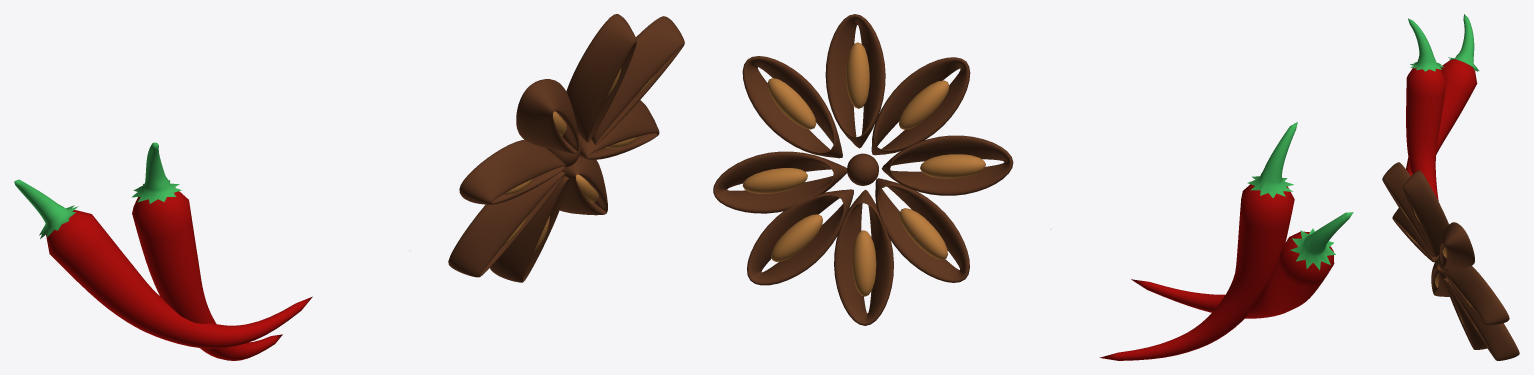
Rendered from ctjybj.glb.
3 renders of one model, left to right at view 1: azimuth 30°, elevation 25°; view 2: azimuth 150°, elevation 25°; view 3: azimuth 270°, elevation 25°, orthographic. The views are drawn at different scales.
Visible parts, largest first — view 1: 贝塞尔曲线.001, 贝塞尔曲线.003, 平面.002, 平面.005, 平面.004, 平面.001, 平面.003, 平面.006, 平面, 平面.007, 贝塞尔曲线.004, 贝塞尔曲线.002; view 2: 贝塞尔曲线.003, 平面.001, 贝塞尔曲线.001, 平面.002, 平面, 平面.006, 平面.007, 平面.004, 平面.005, 平面.003, 贝塞尔曲线.002, 贝塞尔曲线.004 (+9 smaller); view 3: 贝塞尔曲线.003, 平面.002, 贝塞尔曲线.001, 平面, 平面.007, 平面.001, 平面.003, 贝塞尔曲线.004, 平面.006, 贝塞尔曲线.002, 平面.004, 平面.005.
Boxes of the visible parts, x1,y1,x2,y2 form: 贝塞尔曲线.001: (46,210,312,348); 贝塞尔曲线.003: (132,187,282,360); 平面.002: (566,14,636,142); 平面.005: (448,171,565,277); 平面.004: (459,139,566,204); 平面.001: (591,16,684,144); 平面.003: (516,79,578,153); 平面.006: (490,176,569,282); 平面: (578,100,659,159); 平面.007: (560,156,607,215); 贝塞尔曲线.004: (131,142,181,203); 贝塞尔曲线.002: (14,179,78,238); 贝塞尔曲线.003: (1099,184,1294,360); 平面.001: (742,56,842,158); 贝塞尔曲线.001: (1131,231,1334,318); 平面.002: (825,14,885,148); 平面: (713,151,846,213); 平面.006: (834,189,893,325); 平面.007: (747,189,853,285); 平面.004: (881,135,1013,195); 平面.005: (875,178,969,282); 平面.003: (871,57,970,155); 贝塞尔曲线.002: (1290,212,1353,269); 贝塞尔曲线.004: (1247,122,1297,198); 贝塞尔曲线.003: (1406,68,1446,200); 平面.002: (1403,170,1448,257); 贝塞尔曲线.001: (1406,59,1477,175); 平面: (1444,266,1509,325); 平面.007: (1447,282,1519,360); 平面.001: (1439,222,1474,269); 平面.003: (1382,162,1433,256); 贝塞尔曲线.004: (1408,18,1444,71); 平面.006: (1443,277,1487,349); 贝塞尔曲线.002: (1448,14,1479,71); 平面.004: (1392,208,1439,262); 平面.005: (1431,260,1449,296).
Bounding box in the file's own units: 432 × 177 × 112.
5 materials, 5 textured.
